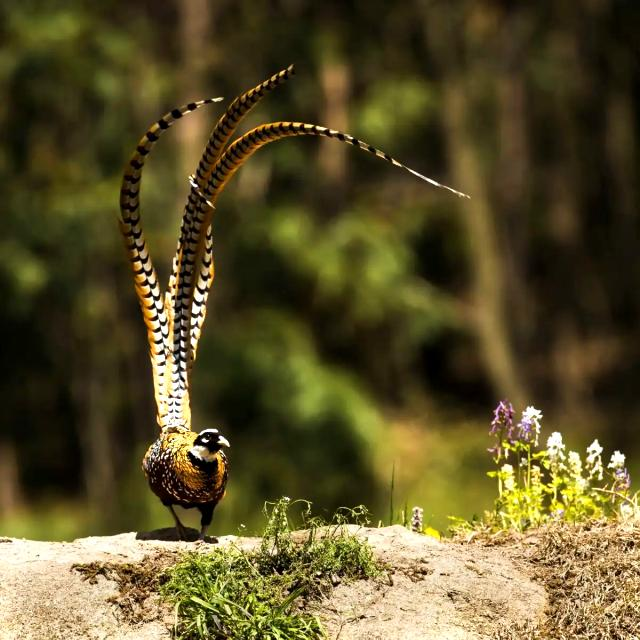Reeves-s Pheasant: (113, 64, 471, 433)
